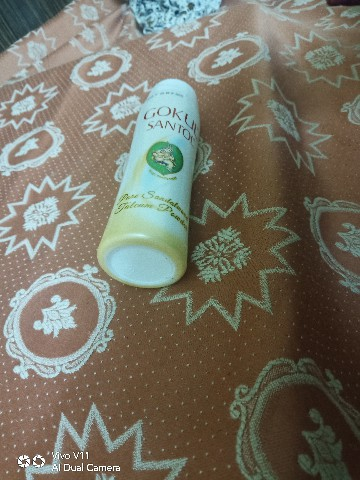gokulsantol big: (98, 63, 216, 292)
